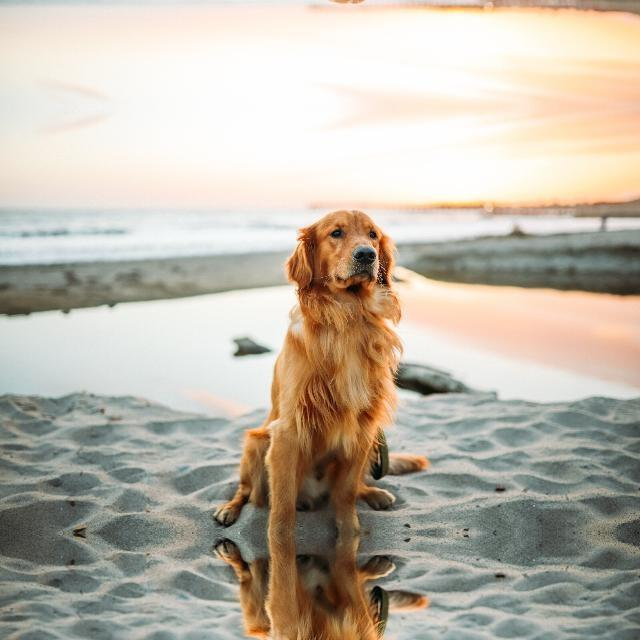dog: (250, 200, 416, 532), (250, 533, 416, 640), (250, 0, 416, 12)
